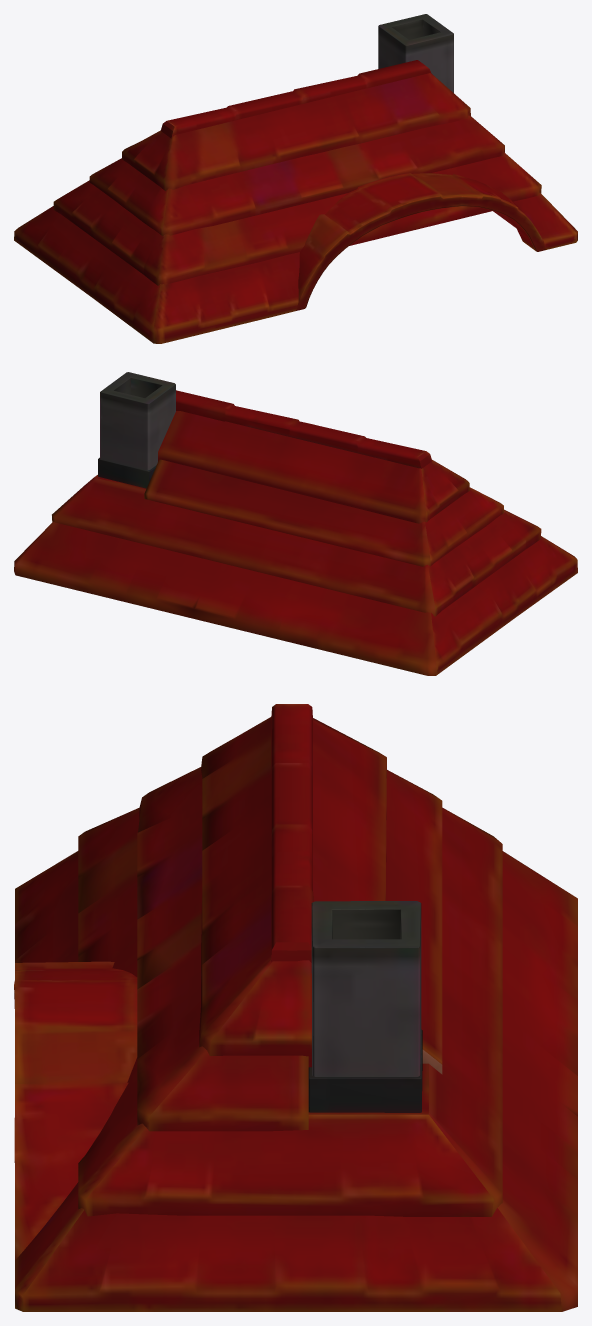
File: roof-nb-woodpanel.glb
The picture shows the model from 3 angles, top to bottom: view 1: azimuth 30°, elevation 25°; view 2: azimuth 150°, elevation 25°; view 3: azimuth 270°, elevation 25°; orthographic projection. The views are drawn at different scales.
Size of the model in its own units: 40.08 by 14.81 by 23.77.
Materials: 1 (1 with a texture image).
